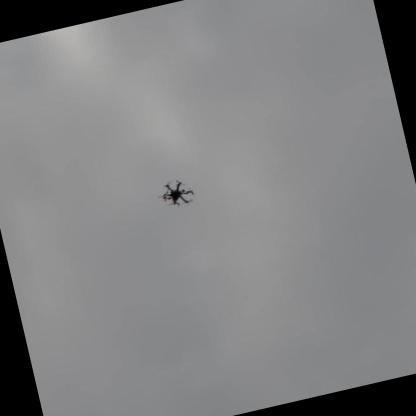drone: (152, 173, 201, 218)
